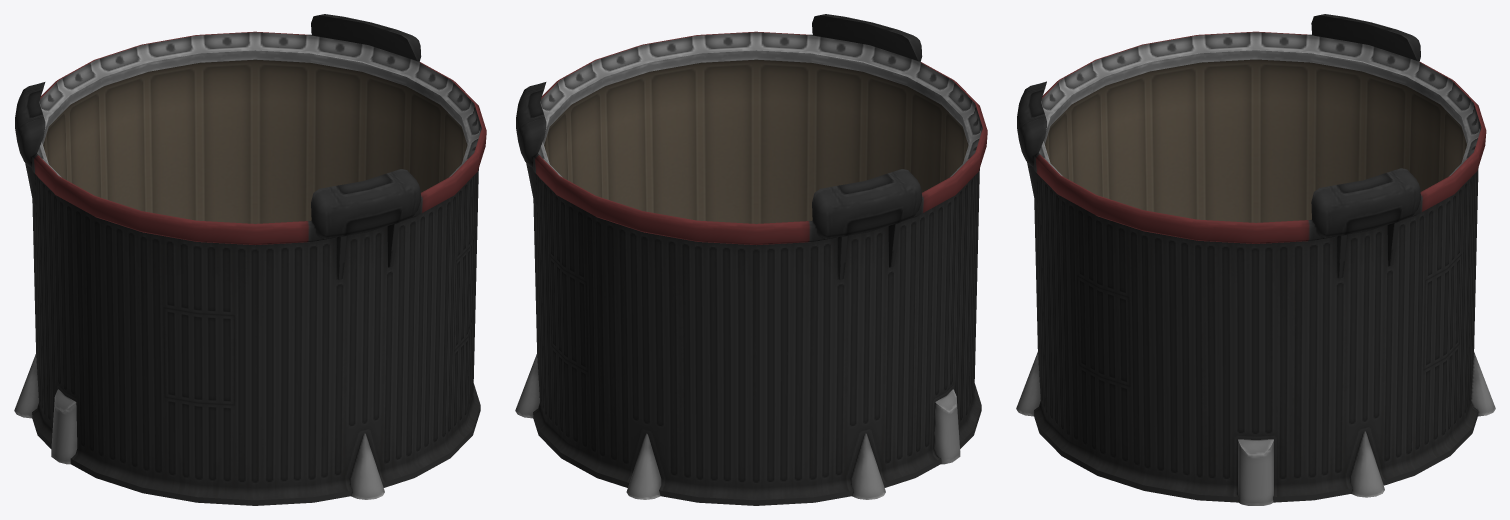
Rendered from Interstage.fbx.
3 renders of one model, left to right at view 1: azimuth 30°, elevation 25°; view 2: azimuth 150°, elevation 25°; view 3: azimuth 270°, elevation 25°, orthographic.
Visible parts, largest first — view 1: Mercury_Interstage_Merged_group142; view 2: Mercury_Interstage_Merged_group142; view 3: Mercury_Interstage_Merged_group142.
Part boxes in pixels (x1=…): Mercury_Interstage_Merged_group142: x1=14, y1=14, x2=486, y2=505; Mercury_Interstage_Merged_group142: x1=515, y1=14, x2=987, y2=505; Mercury_Interstage_Merged_group142: x1=1016, y1=14, x2=1495, y2=505.
Size of what is drawn, in the model's own units: 1.28 by 0.9498 by 1.34.
